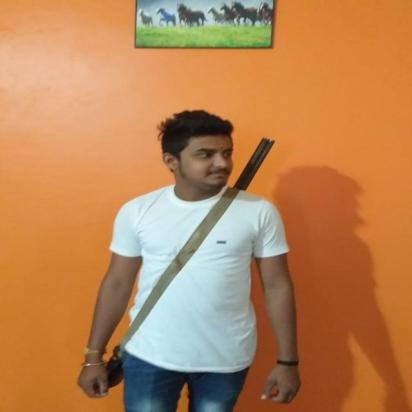Gun: (88, 134, 277, 392)
